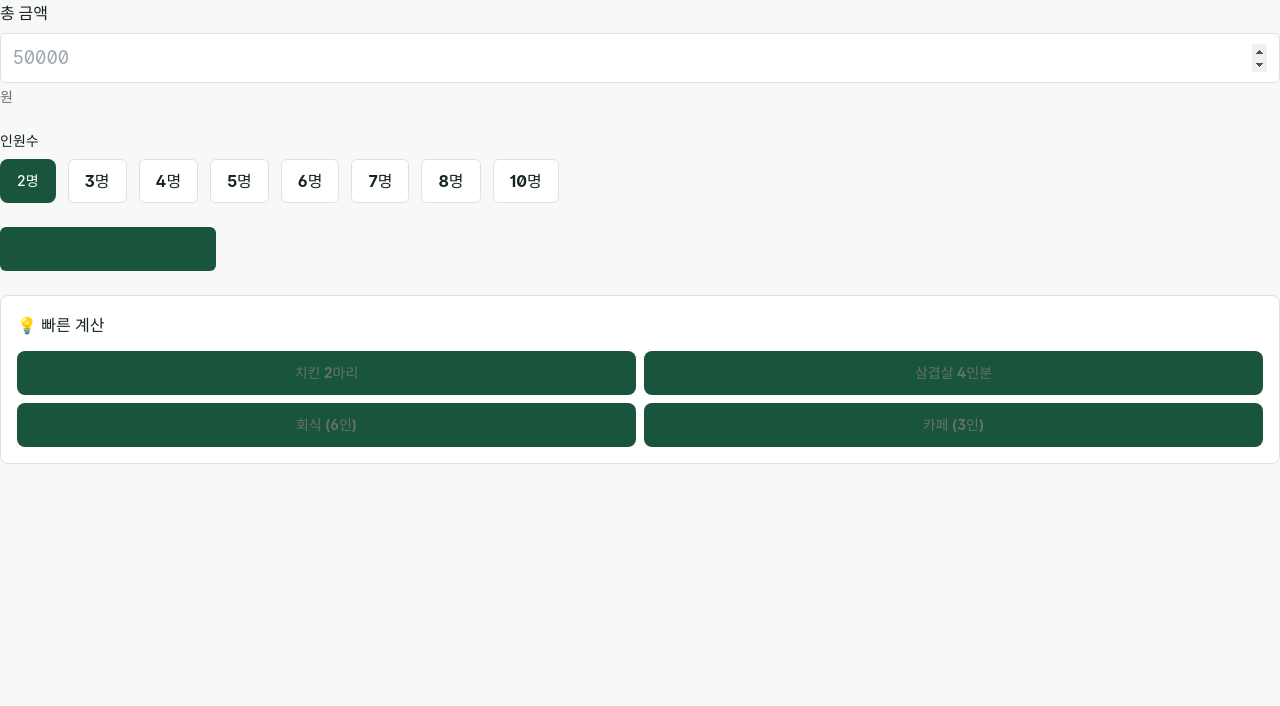
Test: conditionally rendered tool controls › labels each advanced Dutch-pay name and payment field
This screenshot has width=1280, height=706.
Click the button "▶ 각자 낸 금액 입력하기 (정산)" at (108, 249), box [0,227,216,271]
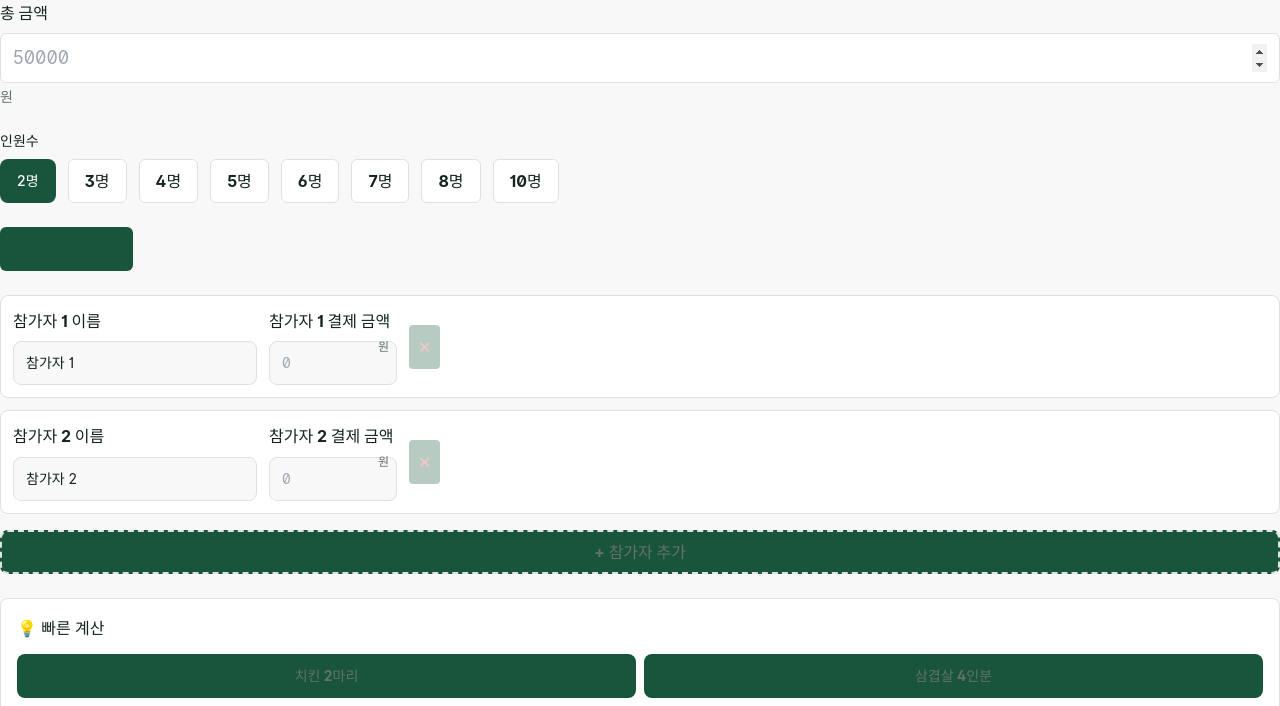
Result: the element labelled "참가자 1 이름" is shown at [13,308,257,385]
Result: the element labelled "참가자 1 결제 금액" is shown at [269,308,397,385]
Result: the element labelled "참가자 2 이름" is shown at [13,423,257,501]
